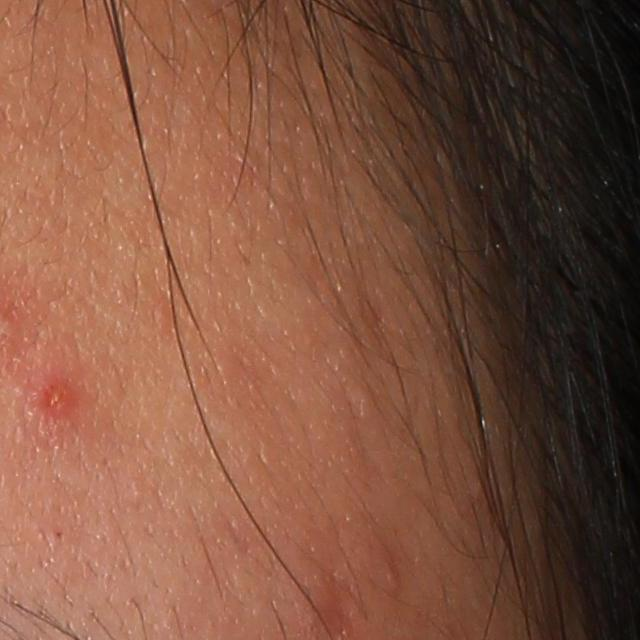papule: (30, 376, 82, 428)
